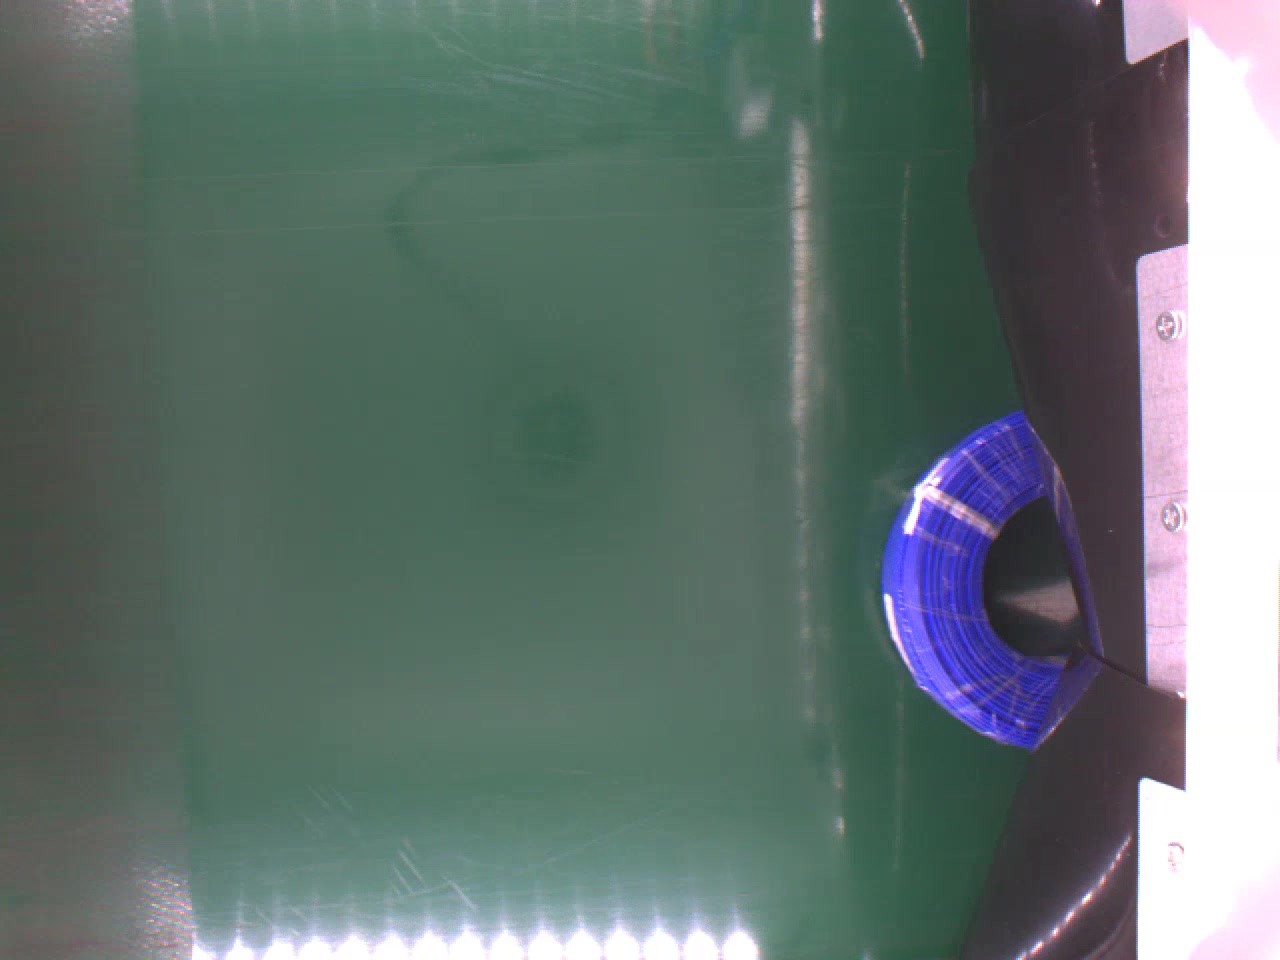blue: (879, 413, 1074, 747)
